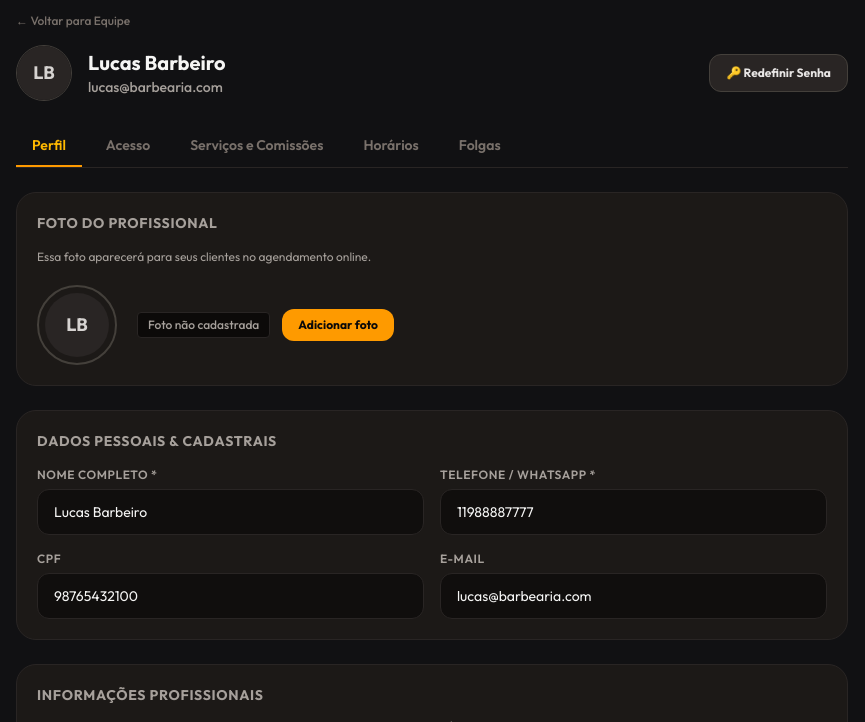
Test: TEM BARBER — Gate P2-UX: Simplificação de Comissões › 1. Carregamento da aba com comissão padrão do colaborador exibida
Expected: the heading "Lucas Barbeiro" is shown, [88,49,226,77]
Click the button "Serviços e Comissões" at (257, 146), box [174,125,339,167]
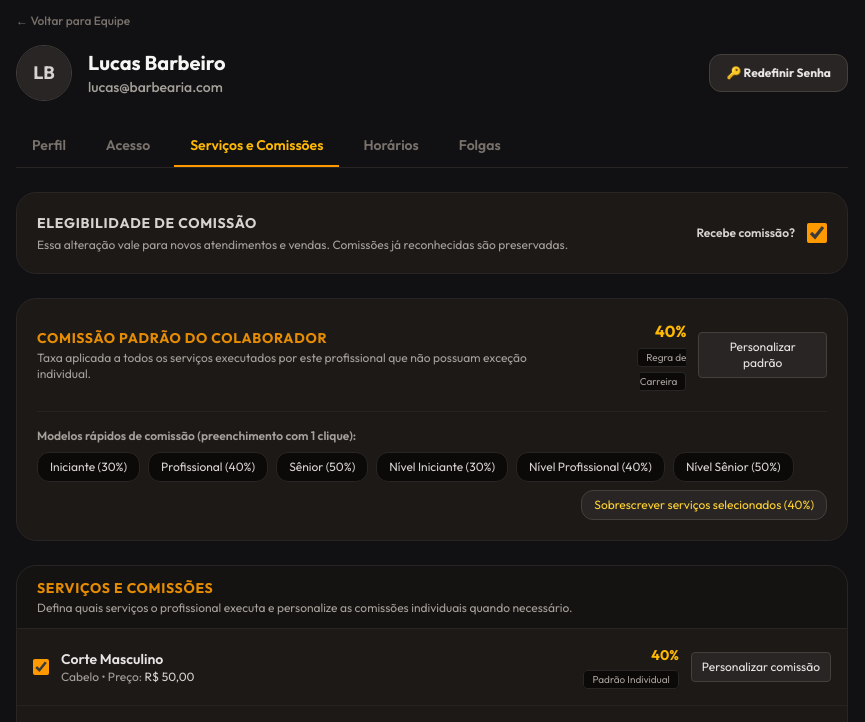
Expected: the element with test id "member-default-commission-section" is shown, [16,298,848,541]
Expected: the text with test id "member-default-rate" reads "40%", [655,321,686,341]
Expected: the text with test id "member-default-origin" reads "Regra de Carreira", [640,351,686,388]
